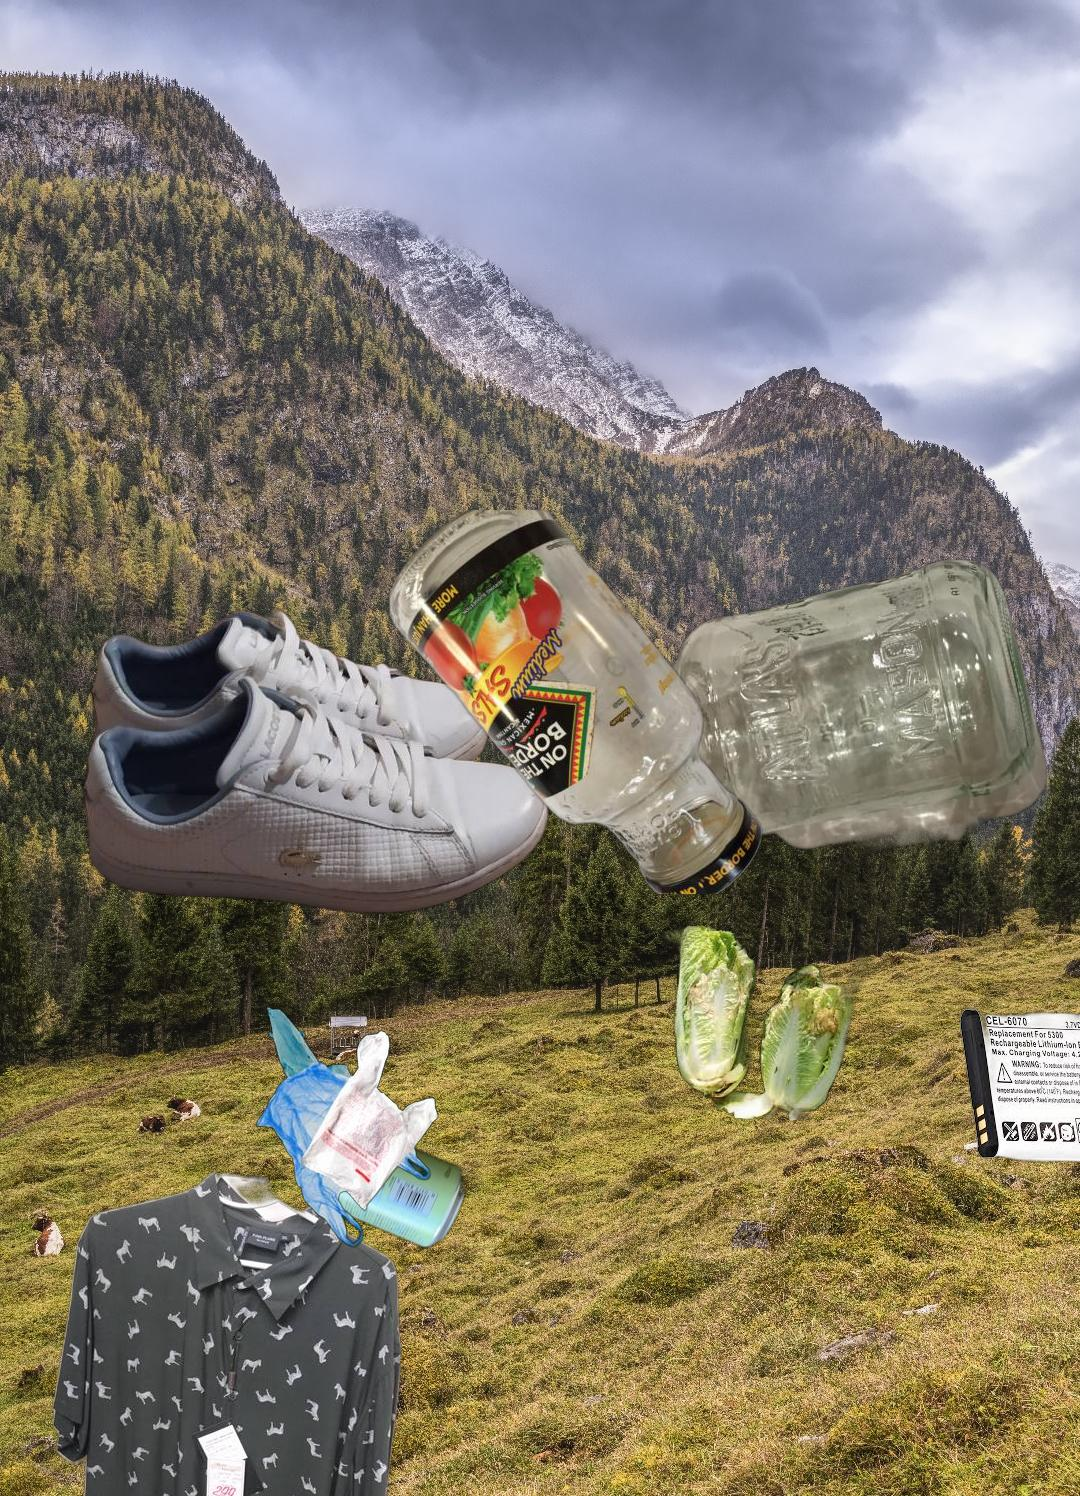battery: (957, 1006, 1080, 1165)
biological: (626, 926, 886, 1120)
clothes: (49, 1164, 406, 1496)
glass: (384, 510, 766, 894), (611, 556, 1051, 873)
metal-cans: (300, 1119, 469, 1254)
plastic-bag: (254, 1004, 442, 1250)
shoes: (77, 603, 554, 918)
